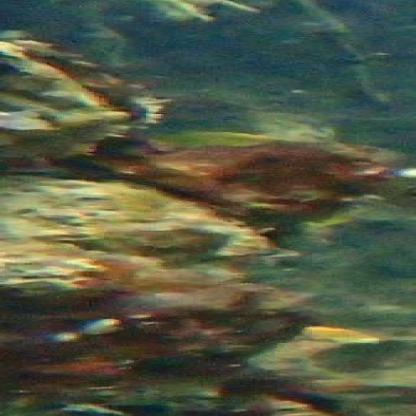Oyster-Closed: (0, 166, 273, 294), (117, 128, 390, 224)
Oyster-Open: (0, 31, 167, 157)
